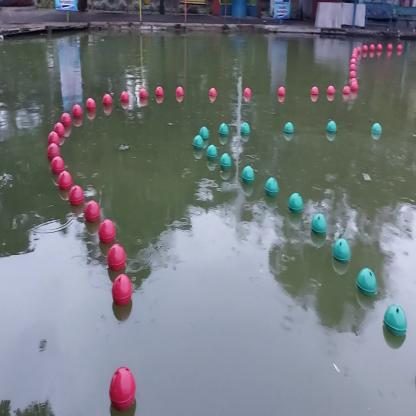green_buoy: (383, 300, 409, 340), (355, 259, 379, 301), (328, 229, 353, 266), (311, 209, 328, 240), (286, 189, 304, 215), (264, 175, 279, 201), (241, 161, 255, 187), (371, 116, 385, 139), (220, 152, 234, 174), (282, 118, 296, 139), (206, 142, 219, 164), (199, 121, 212, 142), (326, 117, 339, 137), (218, 121, 232, 138), (193, 130, 203, 153), (240, 121, 250, 136)
red_buoy: (108, 364, 136, 412), (109, 273, 134, 307), (94, 219, 118, 246), (83, 198, 102, 224), (56, 167, 74, 194), (108, 245, 126, 272), (49, 153, 66, 179), (68, 184, 85, 210), (43, 138, 62, 160), (84, 92, 100, 115), (52, 117, 66, 143), (69, 97, 84, 120), (48, 129, 61, 151), (61, 110, 72, 132), (174, 80, 184, 99), (340, 81, 350, 99), (243, 83, 253, 101), (309, 85, 321, 99), (120, 89, 130, 105), (102, 92, 112, 108), (138, 88, 149, 102), (326, 82, 335, 99), (155, 84, 164, 101), (208, 86, 218, 101), (279, 84, 285, 97)
